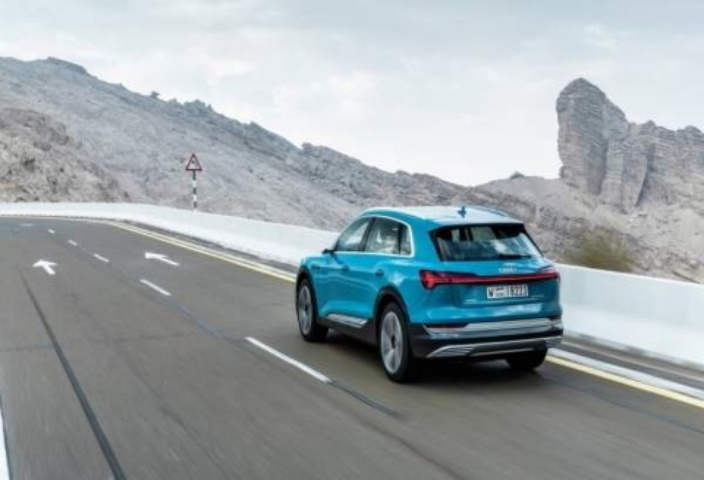camper: (268, 183, 567, 393)
